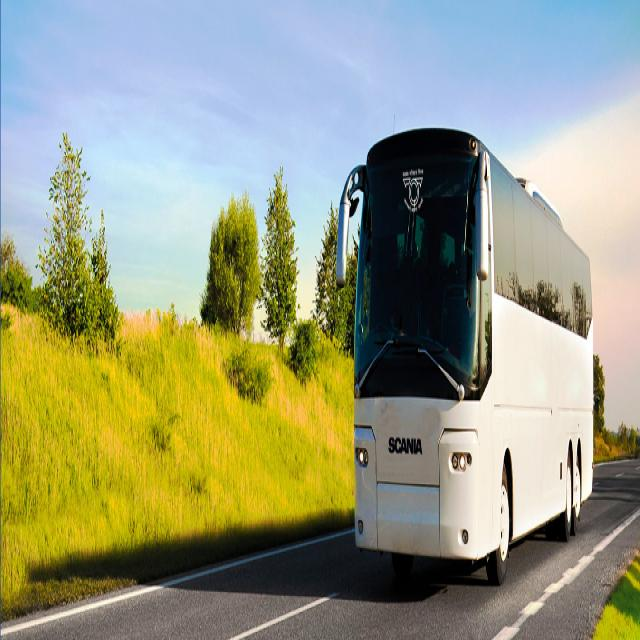BUS: (335, 107, 605, 536)
